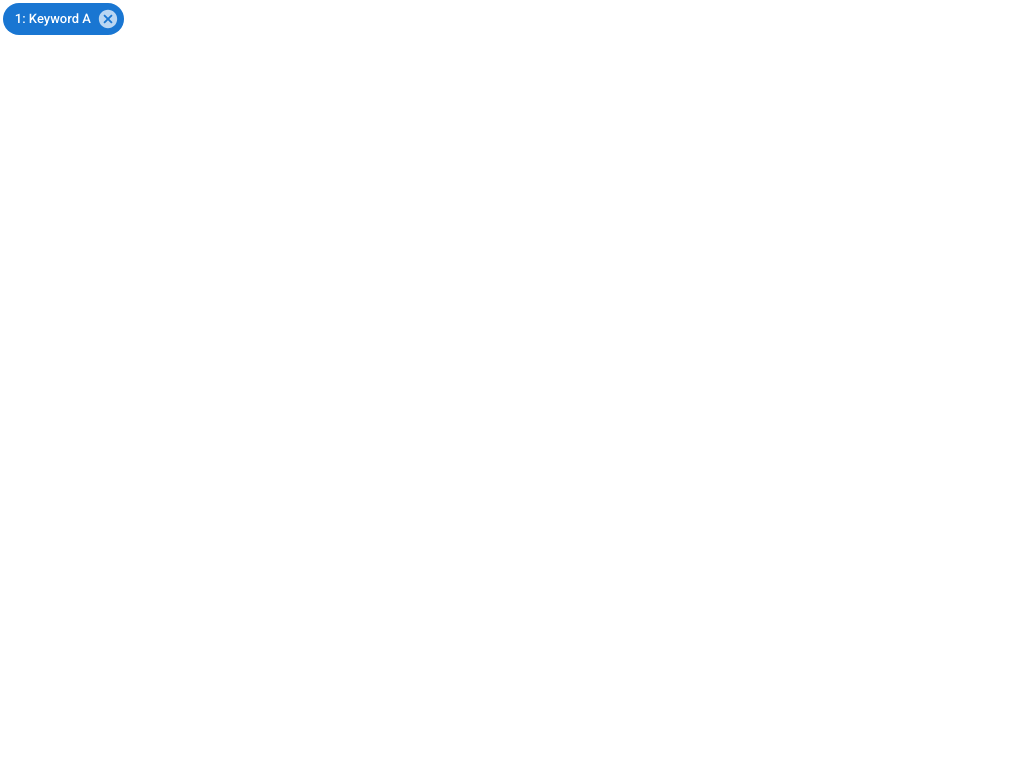
<CategoryChip /> › dialog appears and hides upon Enter (or click)
Press Enter in the button "1: Keyword A", box 3,3 -> 124,35
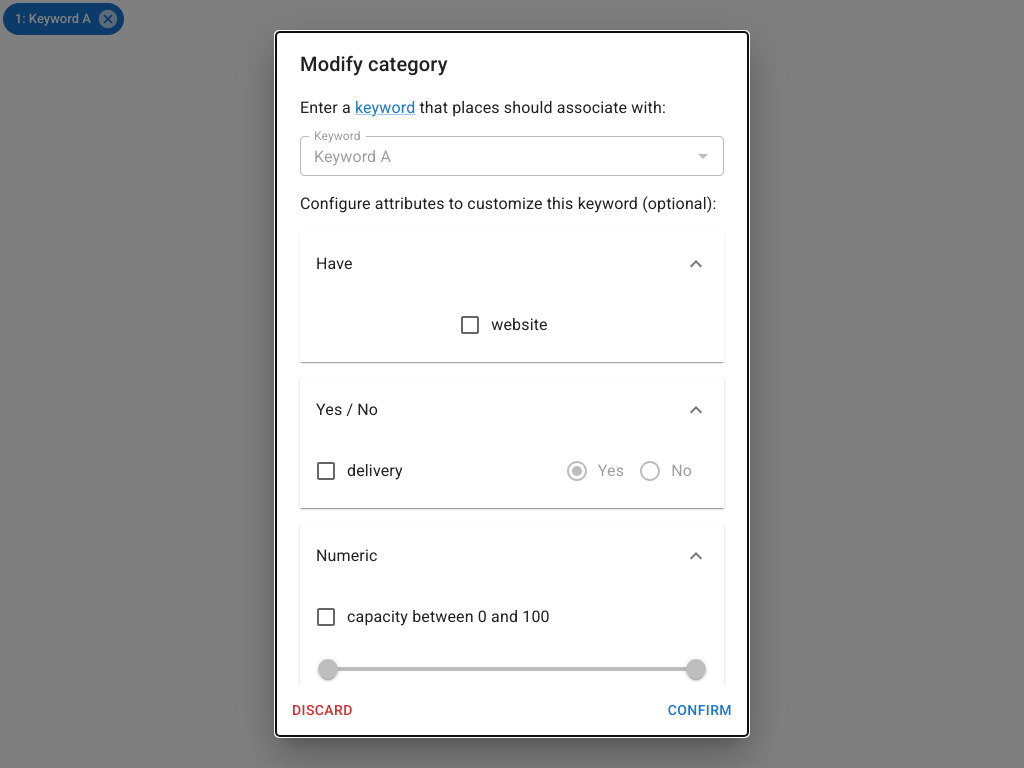
expect the dialog "Modify category" is shown: met, box 276,32 -> 748,736
Click the button "Discard" at (322, 710), box 284,692 -> 361,728
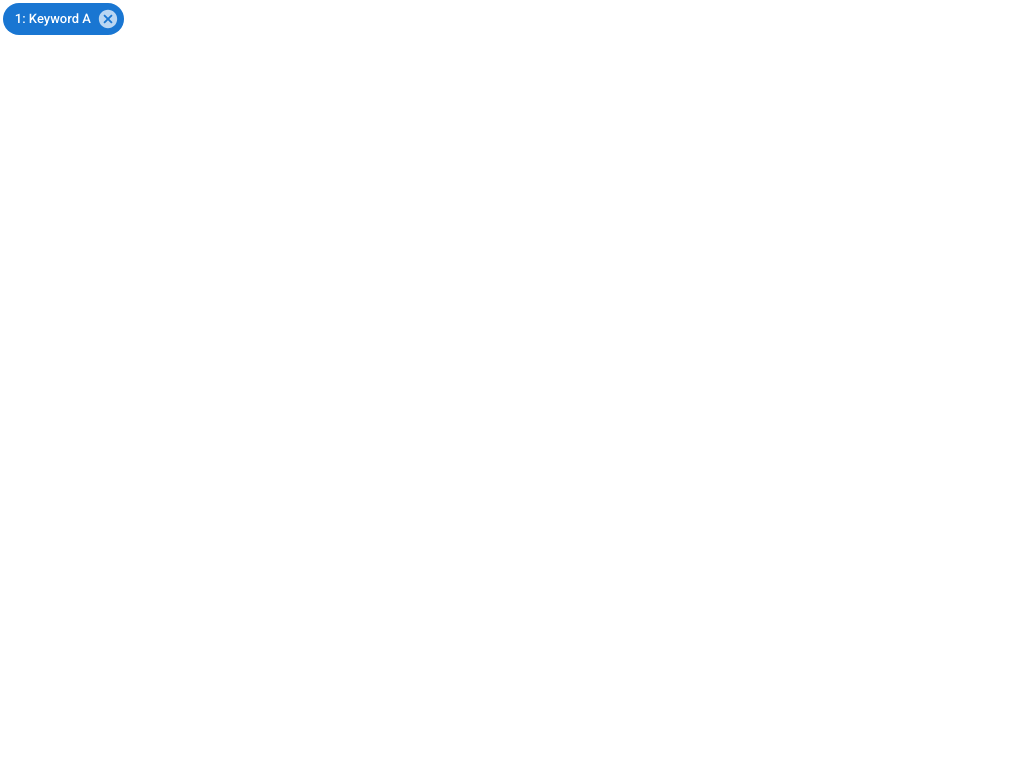
expect the heading "Modify category" is gone: met
